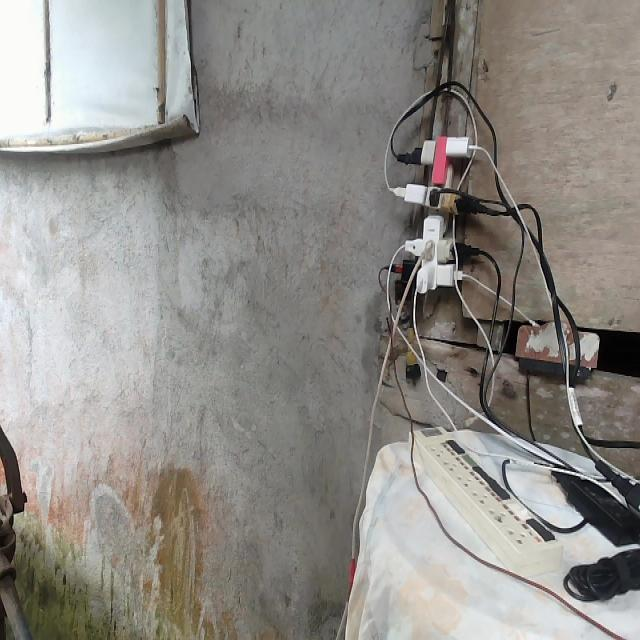-: (395, 129, 472, 291)
